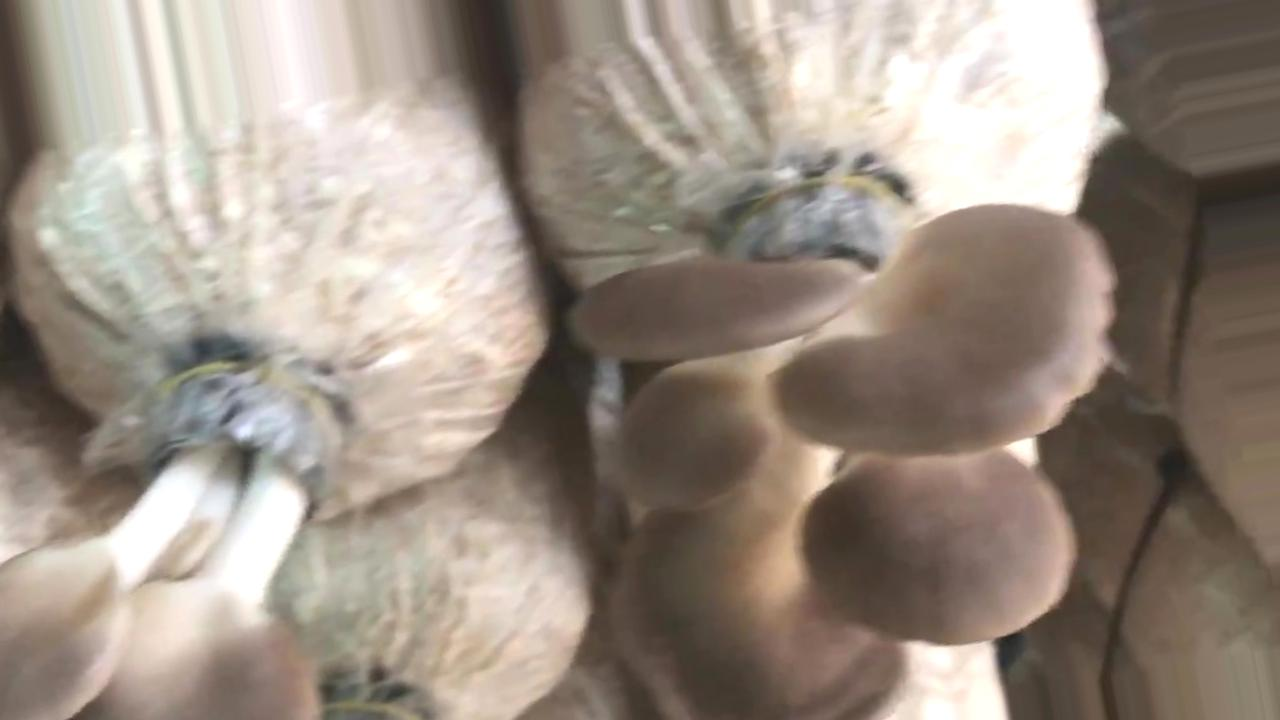nam: (571, 175, 1111, 720), (1, 374, 349, 720)
